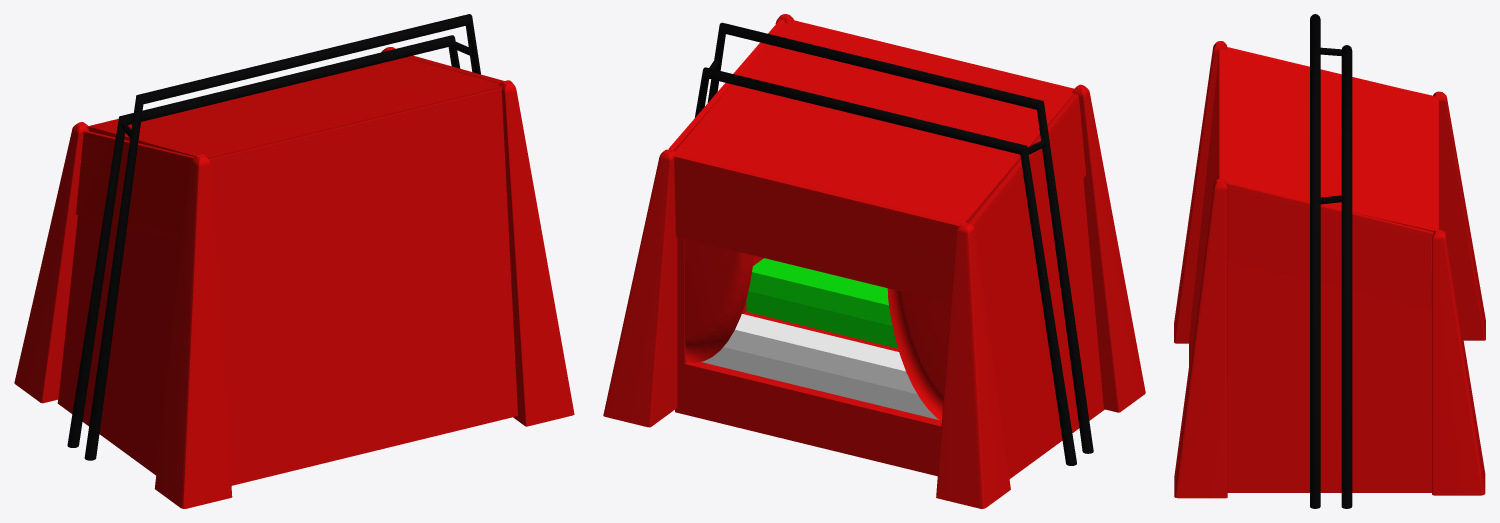
File: CarnivalStall.fbx
3 views of the same model, side by side, from view 1: azimuth 30°, elevation 25°; view 2: azimuth 150°, elevation 25°; view 3: azimuth 270°, elevation 25° (orthographic). The views are drawn at different scales.
Parts seen in each view (by area): view 1: outerWall3, outerWall2, outerSupport3, outerRoof, sign_holder, outerSupport4, outerSupport1, outerFrills1; view 2: outerRoof, outerWall2, base, sign_holder, outerSupport1, outerSupport2, front_counter, outerSupport3, outerFrills1, curtain2, backCounter, curtain1 (+3 smaller); view 3: outerWall1, outerRoof, outerFrills2, outerSupport4, sign_holder, outerSupport2, outerSupport1, outerSupport3, outerWall3.
Part boxes in pixels (x1,y1,x2,y2): outerWall3: (209,88,517,485); outerWall2: (57,215,182,475); outerSupport3: (154,154,232,508); outerRoof: (86,57,502,159); sign_holder: (67,14,480,460); outerSupport4: (498,80,574,426); outerSupport1: (14,122,88,403); outerFrills1: (76,131,194,240); outerRoof: (674,19,1073,303); outerWall2: (985,179,1104,478); base: (675,311,941,476); sign_holder: (695,22,1093,465); outerSupport1: (936,222,1010,508); outerSupport2: (603,149,677,427); front_counter: (701,314,939,420); outerSupport3: (1071,84,1145,412); outerFrills1: (969,94,1086,299); curtain2: (685,239,753,362); backCounter: (746,258,897,348); curtain1: (887,288,950,421); outerWall1: (1227,261,1431,492); outerRoof: (1220,48,1438,232); outerFrills2: (1225,182,1434,310); outerSupport4: (1174,179,1227,498); sign_holder: (1310,14,1352,508); outerSupport2: (1432,230,1485,495); outerSupport1: (1433,91,1485,340); outerSupport3: (1174,41,1227,343); outerWall3: (1189,50,1220,365).
Bounding box in the file's own units: 873 × 670 × 586.
